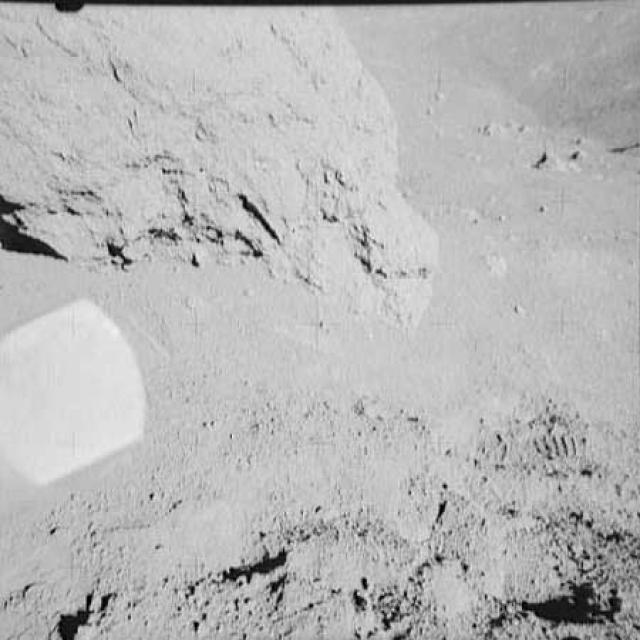rock: (0, 3, 448, 310), (478, 116, 534, 138), (532, 148, 564, 178)
